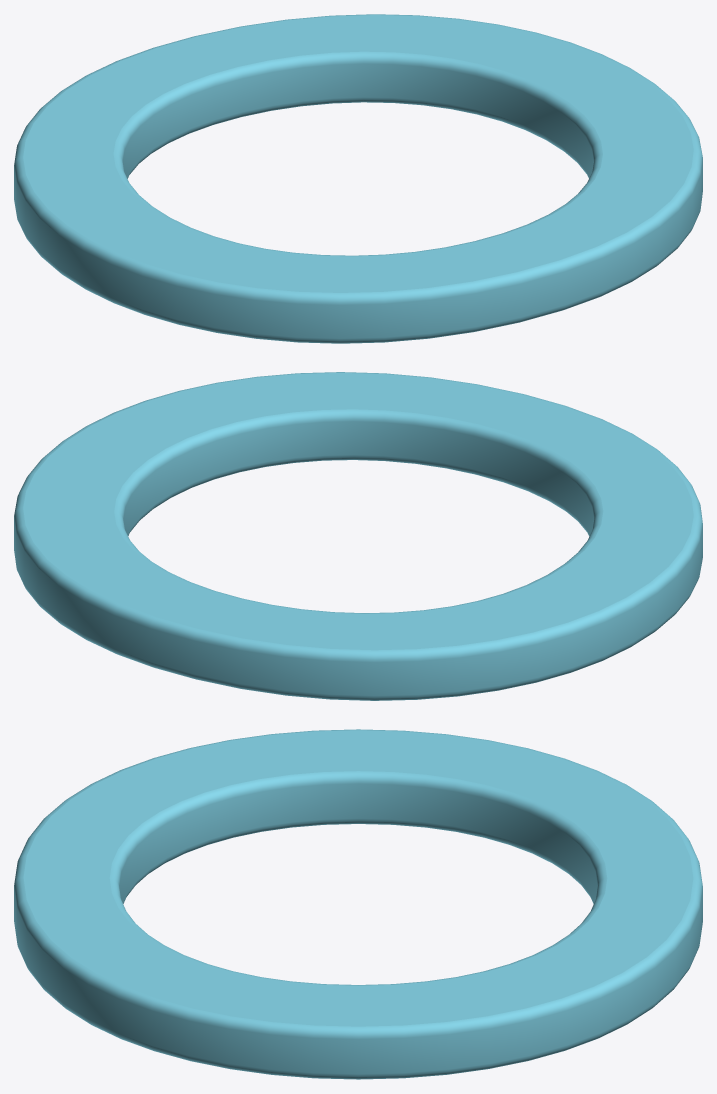
3 renders of one model, top to bottom at view 1: azimuth 30°, elevation 25°; view 2: azimuth 150°, elevation 25°; view 3: azimuth 270°, elevation 25°, orthographic. The views are drawn at different scales.
Parts seen in each view (by area): view 1: Text; view 2: Text; view 3: Text.
Part boxes in pixels (x1,y1,x2,y2): Text: (14,14,702,343); Text: (14,372,702,700); Text: (14,729,702,1079).
Bounding box in the file's own units: 0.753 × 0.06 × 0.72.
